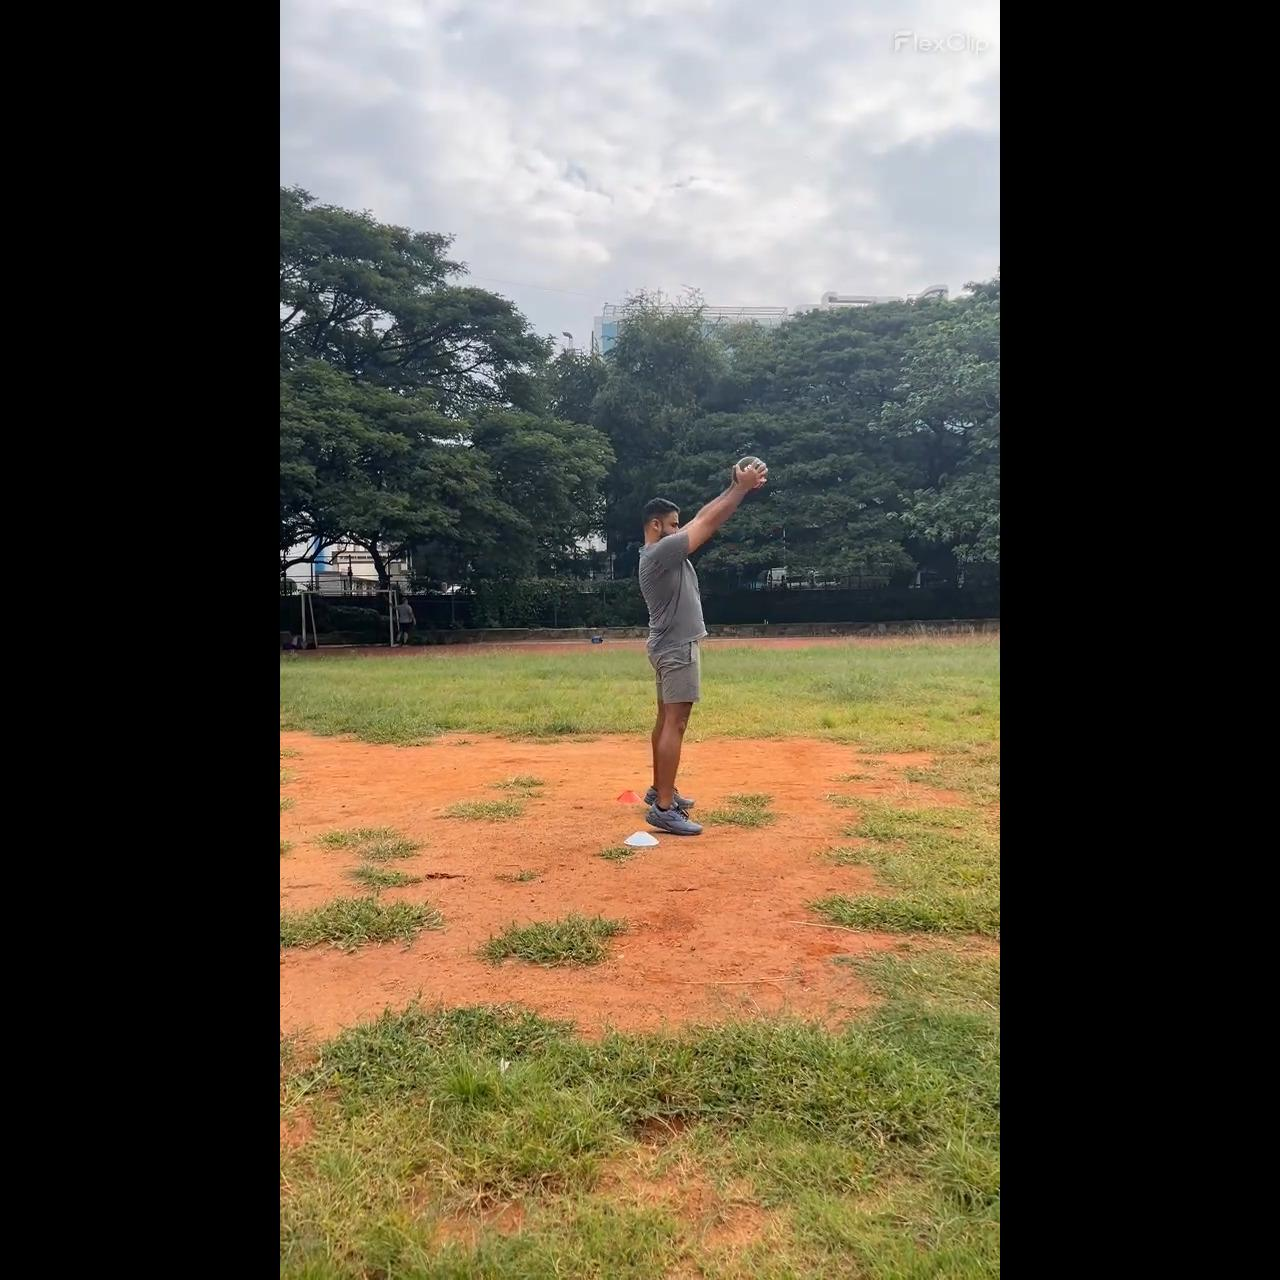Athelete: (631, 454, 769, 835)
